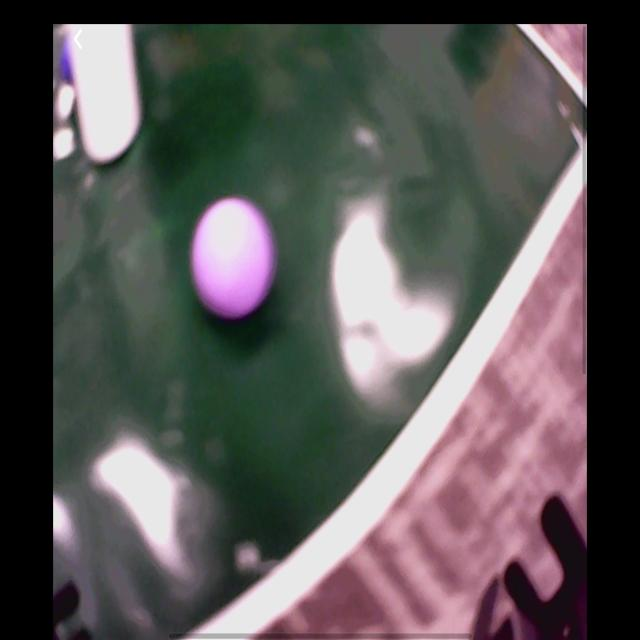ball: (194, 198, 275, 322), (58, 43, 73, 88)
